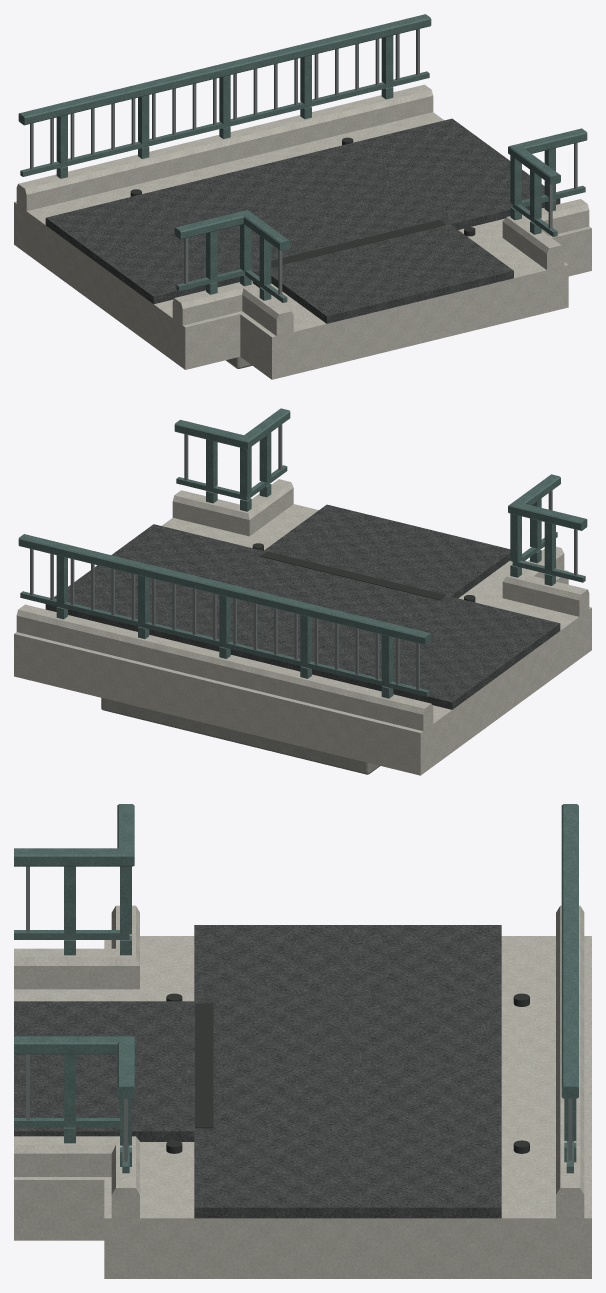
The model's file is BRG_LOCAL_DECK_1x1_T.glb.
3 views of the same model, one above another, from view 1: azimuth 30°, elevation 25°; view 2: azimuth 150°, elevation 25°; view 3: azimuth 270°, elevation 25° (orthographic). The views are drawn at different scales.
Parts seen in each view (by area): view 1: BRG_LOCAL_DECK_1x1_T_Visual; view 2: BRG_LOCAL_DECK_1x1_T_Visual; view 3: BRG_LOCAL_DECK_1x1_T_Visual.
Boxes of the visible parts, x1,y1,x2,y2 form: BRG_LOCAL_DECK_1x1_T_Visual: (14, 14, 591, 379); BRG_LOCAL_DECK_1x1_T_Visual: (14, 408, 591, 775); BRG_LOCAL_DECK_1x1_T_Visual: (14, 804, 591, 1278).
Size of what is drawn, in the model's own units: 2 by 0.775 by 1.73.
Materials: 6 (4 with a texture image).
